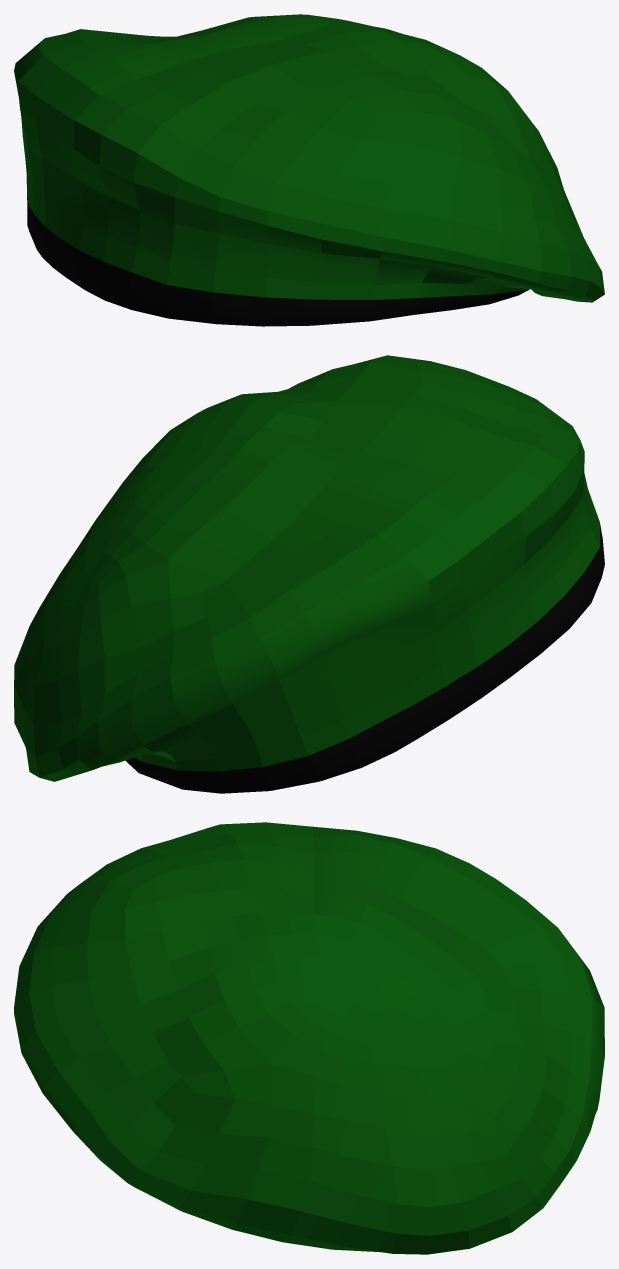
Rendered from Beret_Boy.fbx.
3 renders of one model, top to bottom at view 1: azimuth 30°, elevation 25°; view 2: azimuth 150°, elevation 25°; view 3: azimuth 270°, elevation 25°, orthographic. The views are drawn at different scales.
Parts seen in each view (by area): view 1: Beret.001; view 2: Beret.001; view 3: Beret.001.
Boxes of the visible parts, x1=… form: Beret.001: x1=14, y1=14, x2=604, y2=326; Beret.001: x1=14, y1=355, x2=604, y2=793; Beret.001: x1=14, y1=822, x2=604, y2=1254.
Bounding box in the file's own units: 51.57 × 33.62 × 63.55.
